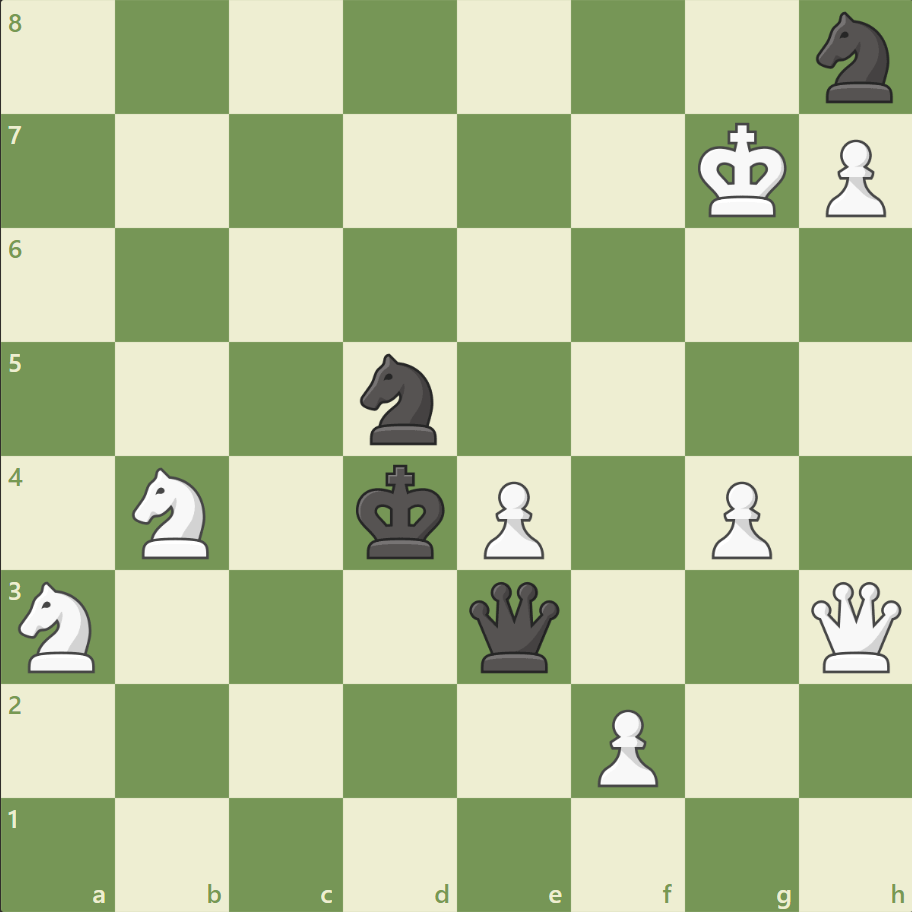K: (692, 117, 792, 225)
N: (124, 461, 222, 564), (11, 575, 108, 677)
P: (474, 473, 549, 564), (701, 473, 776, 564), (815, 132, 889, 223), (588, 700, 662, 791)
Q: (805, 576, 904, 676)
k: (351, 458, 451, 566)
n: (351, 348, 449, 450), (806, 7, 903, 110)
q: (464, 576, 563, 676)
